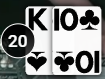10: (51, 7, 79, 33)
k: (26, 6, 51, 33)
